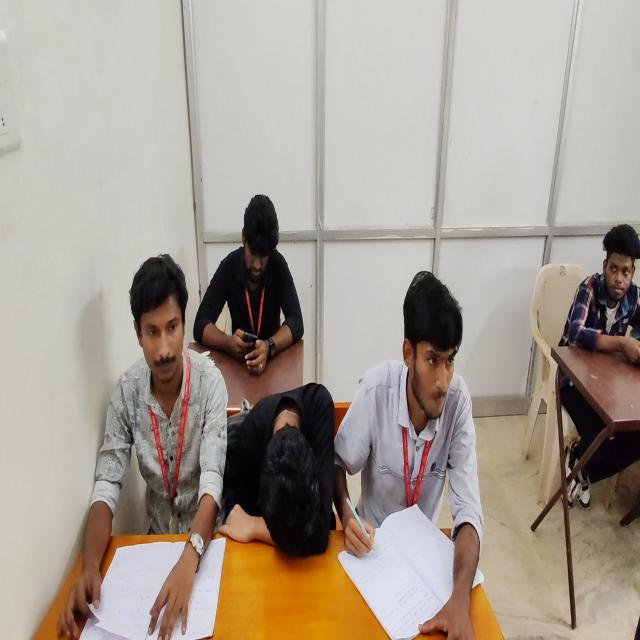listening: (60, 254, 230, 640), (555, 221, 639, 511)
sleeping: (216, 376, 335, 564)
using_mobile: (192, 192, 306, 372)
writing: (334, 267, 481, 640)
